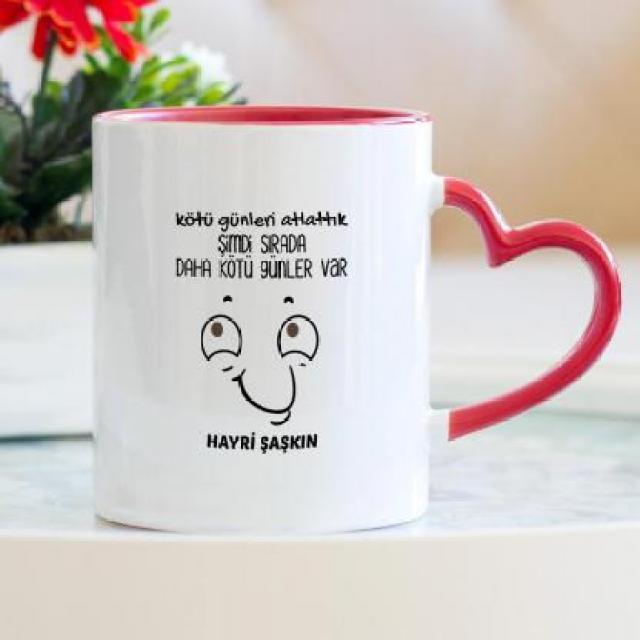taza: (94, 100, 622, 536)
